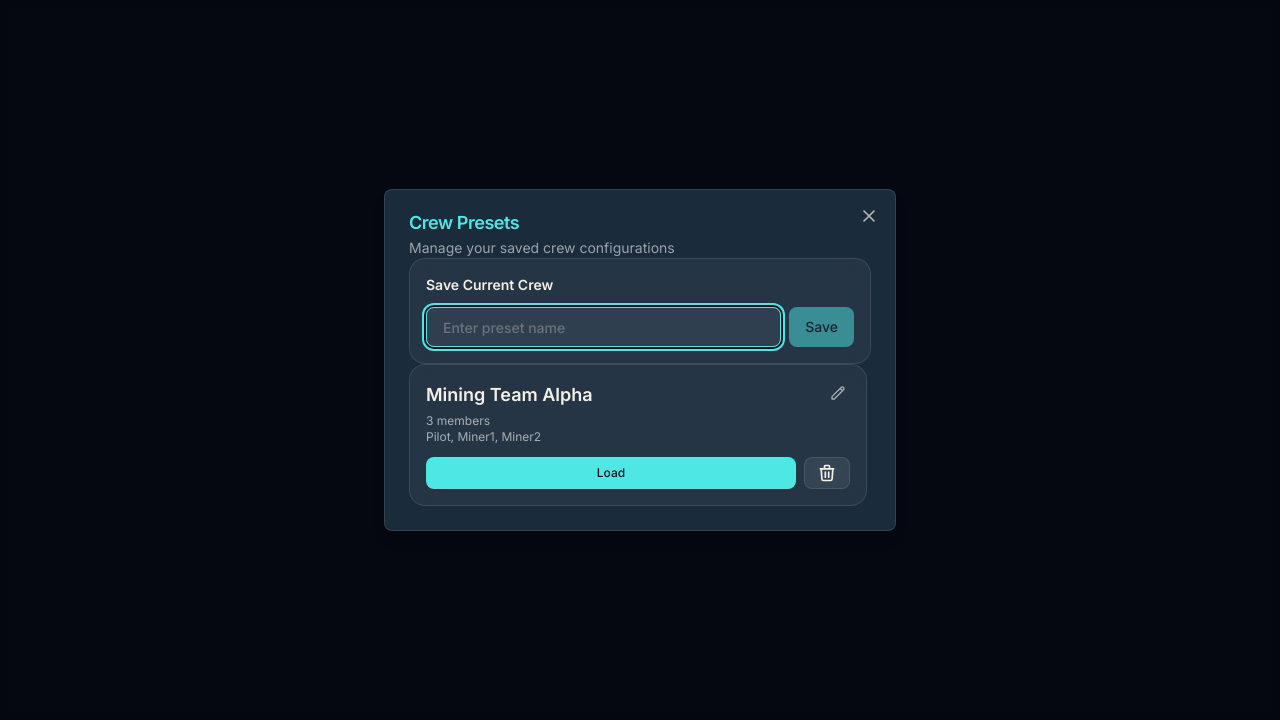
Scenario: CrewPresetManager - Delete Preset › should show delete confirmation when delete button is clicked
// Click delete button (trash icon)
Click the button named "delete preset" at (827, 473), box [804,457,850,489]
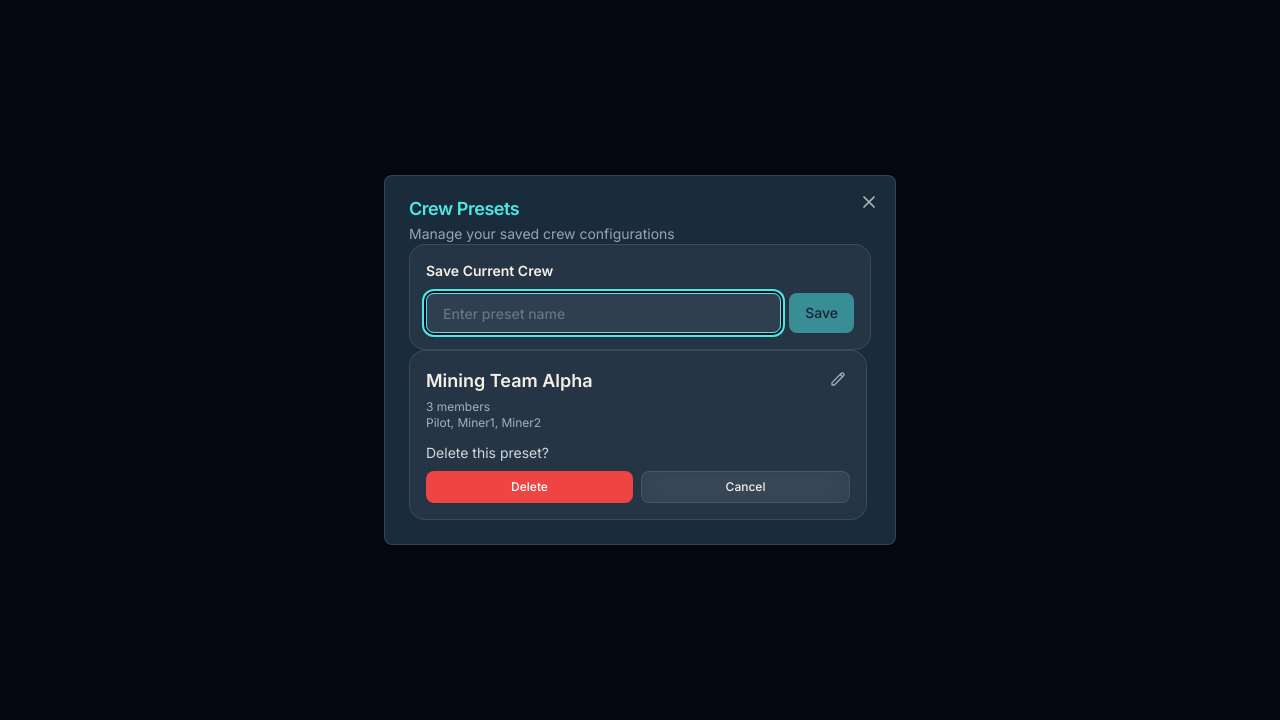
Result: the text "Delete this preset?" is shown at [426,444,549,461]
